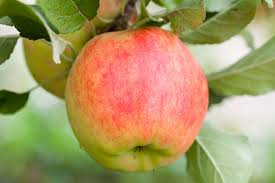tao: (63, 25, 209, 173)
